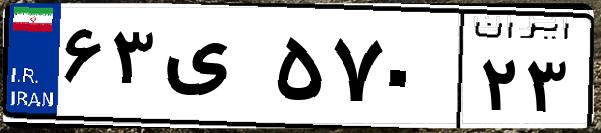0: (385, 28, 445, 110)
2: (475, 38, 525, 113)
3: (525, 38, 570, 115), (110, 28, 158, 98)
5: (270, 28, 330, 110)
6: (57, 26, 110, 100)
7: (330, 28, 385, 110)
ی: (158, 20, 270, 120)
